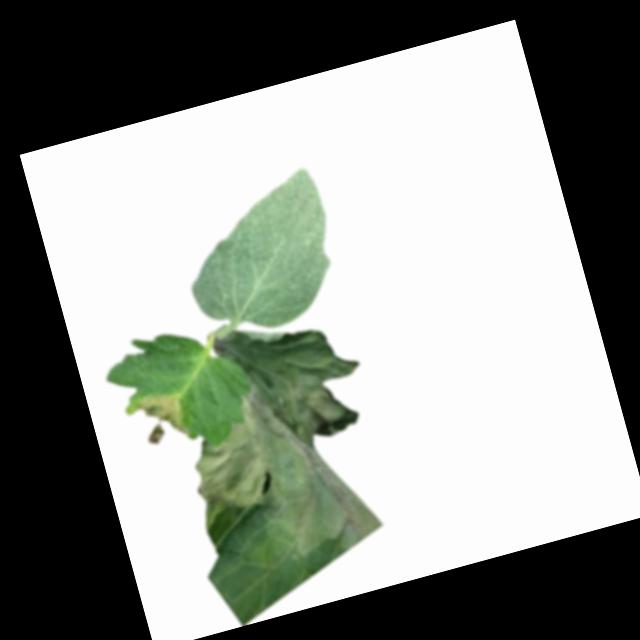Late_blight: (159, 305, 407, 586), (130, 388, 192, 448)
healthy: (167, 164, 352, 346)
